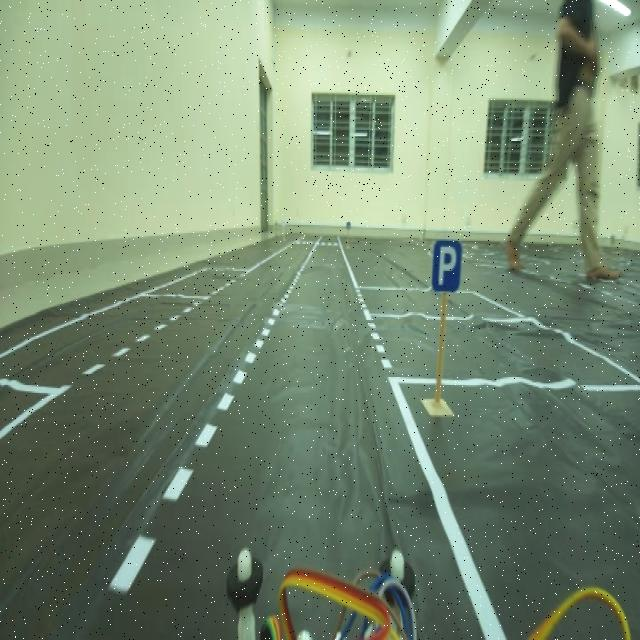parking: (430, 234, 466, 298)
